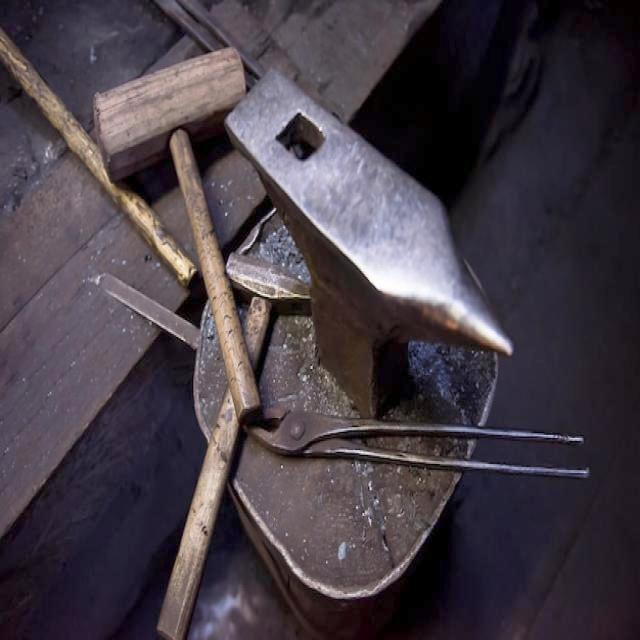hammer: (90, 37, 276, 430), (141, 250, 319, 638)
